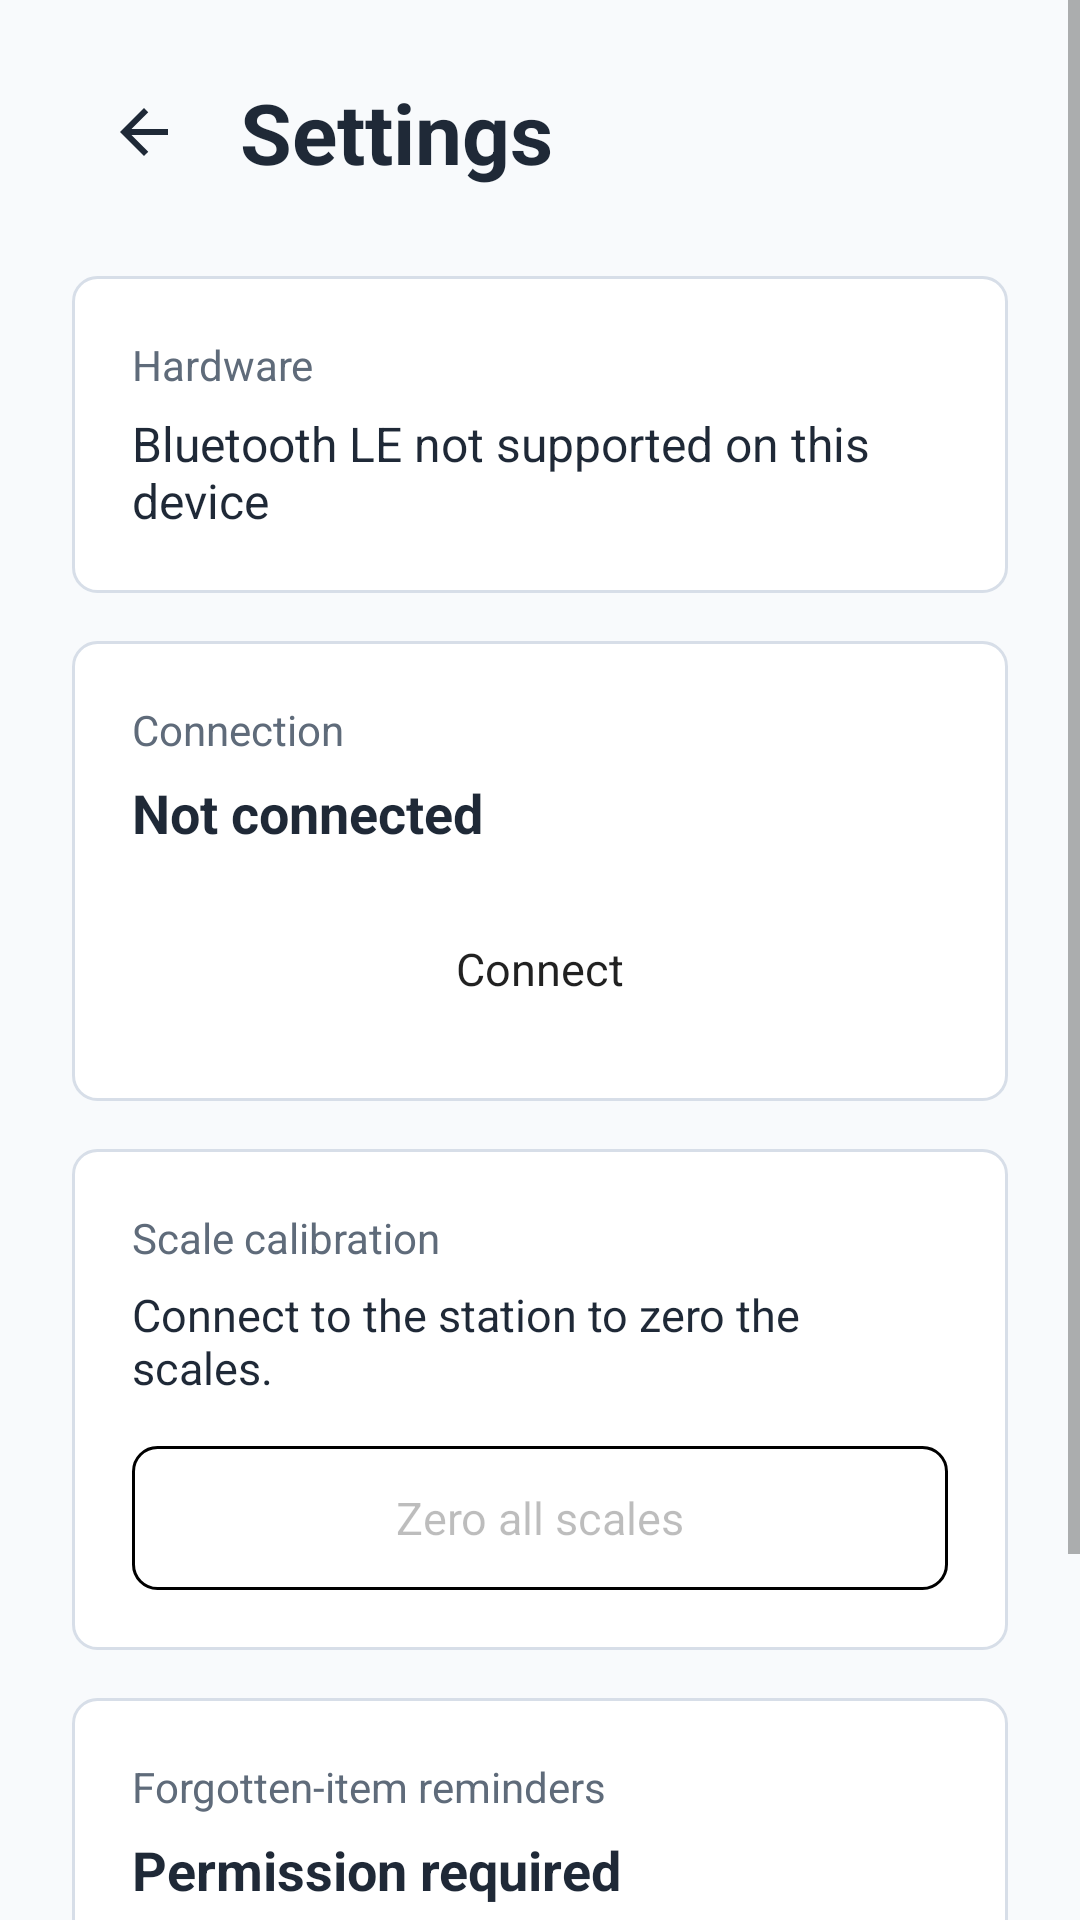

Named icons in this screenshot (1080px×1920px) and their bounding boxes, [x1,y1,x2,y2]:
Back to dashboard: [120,108,168,156]
